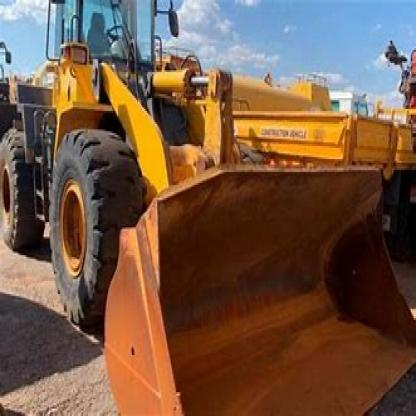bull_dozer/loader/grader: (4, 2, 415, 414)
